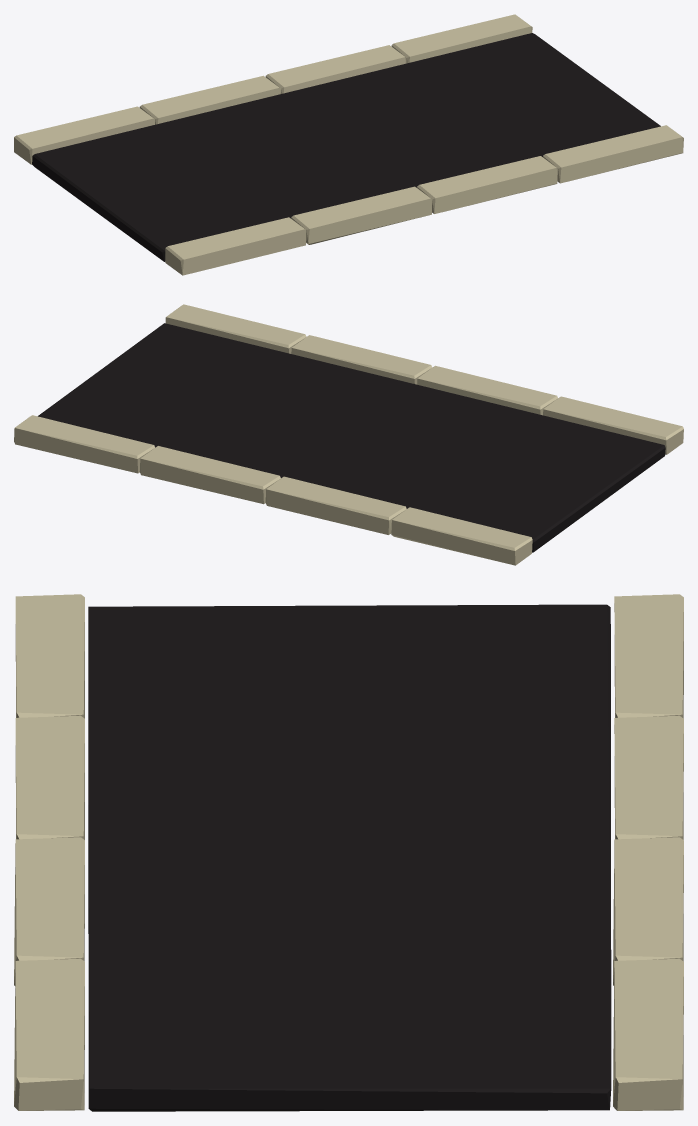
The model's file is roadstraight.fbx.
3 renders of one model, top to bottom at view 1: azimuth 30°, elevation 25°; view 2: azimuth 150°, elevation 25°; view 3: azimuth 270°, elevation 25°, orthographic. The views are drawn at different scales.
Visible parts, largest first — view 1: düzyol; view 2: düzyol; view 3: düzyol.
Part boxes in pixels (x1,y1,x2,y2): düzyol: [14, 14, 683, 275]; düzyol: [14, 304, 683, 565]; düzyol: [14, 594, 683, 1111].
Bounding box in the file's own units: 200 × 6.97 × 117.
